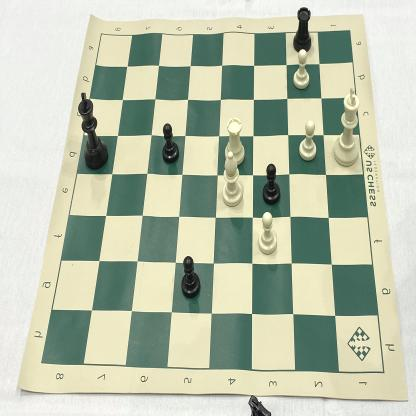black-king: (76, 89, 110, 170)
black-pawn: (180, 252, 202, 301), (260, 161, 283, 206), (161, 120, 180, 165)
black-rook: (292, 4, 315, 54)
white-bishop: (219, 150, 245, 209)
white-king: (330, 84, 363, 171)
white-pawn: (256, 210, 280, 256), (296, 117, 318, 164), (292, 47, 312, 92)
white-rook: (223, 116, 244, 168)
